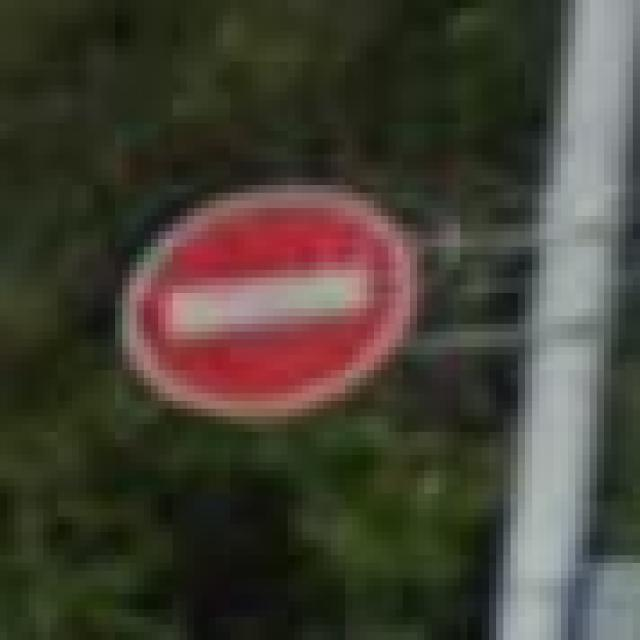Zakaz wjazdu: (115, 185, 417, 432)
